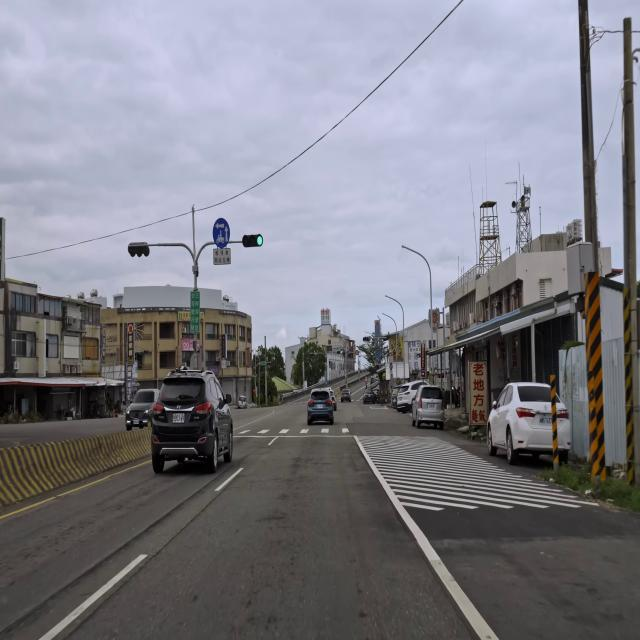green light: (242, 234, 264, 248)
